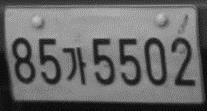0: (143, 36, 167, 86)
2: (170, 36, 196, 86)
5: (118, 37, 142, 87), (38, 37, 61, 85), (92, 37, 115, 85)
8: (10, 36, 36, 84)
가: (61, 46, 86, 86)
